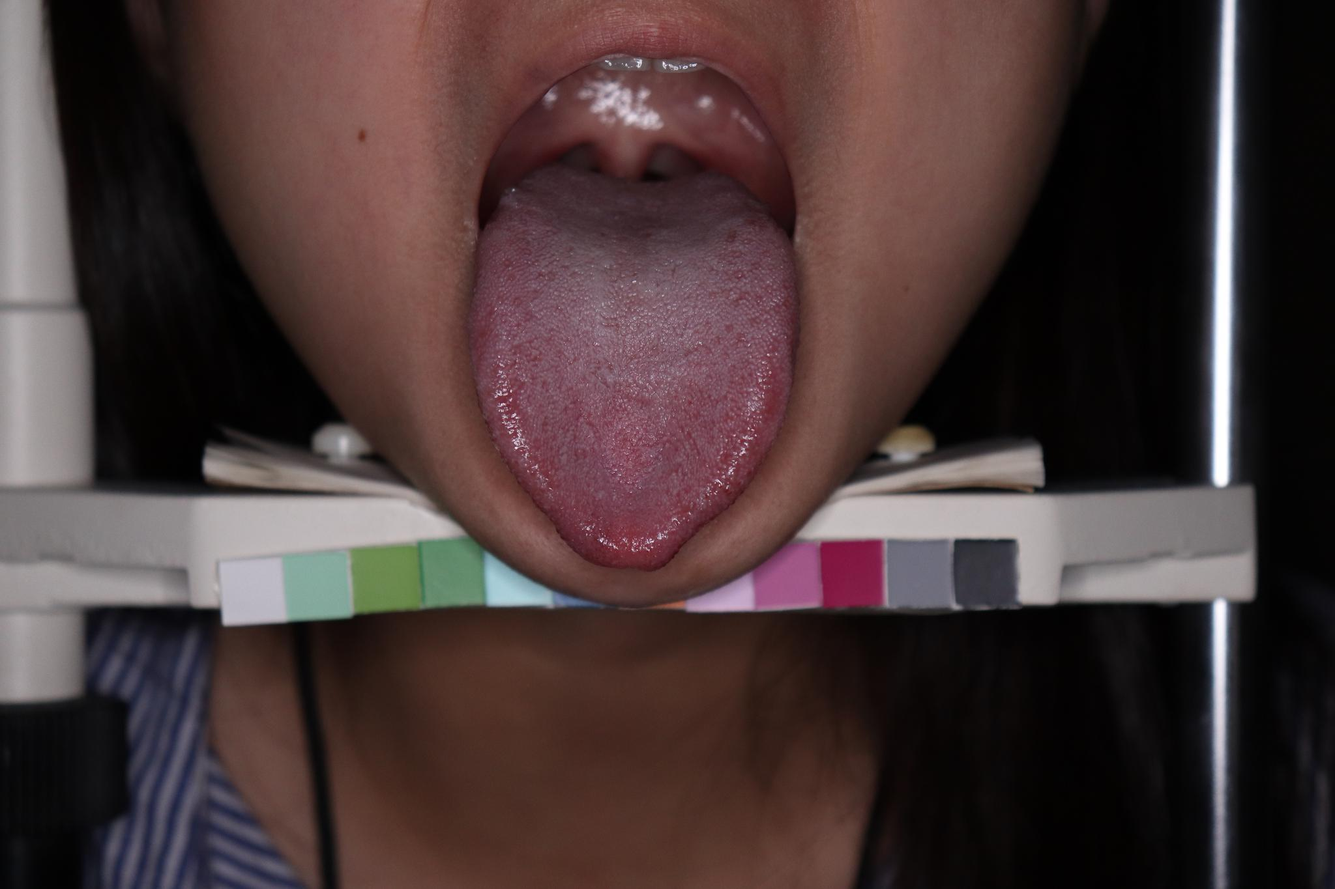baitaishe: (464, 162, 804, 576)
pangdashe: (464, 161, 804, 575)
